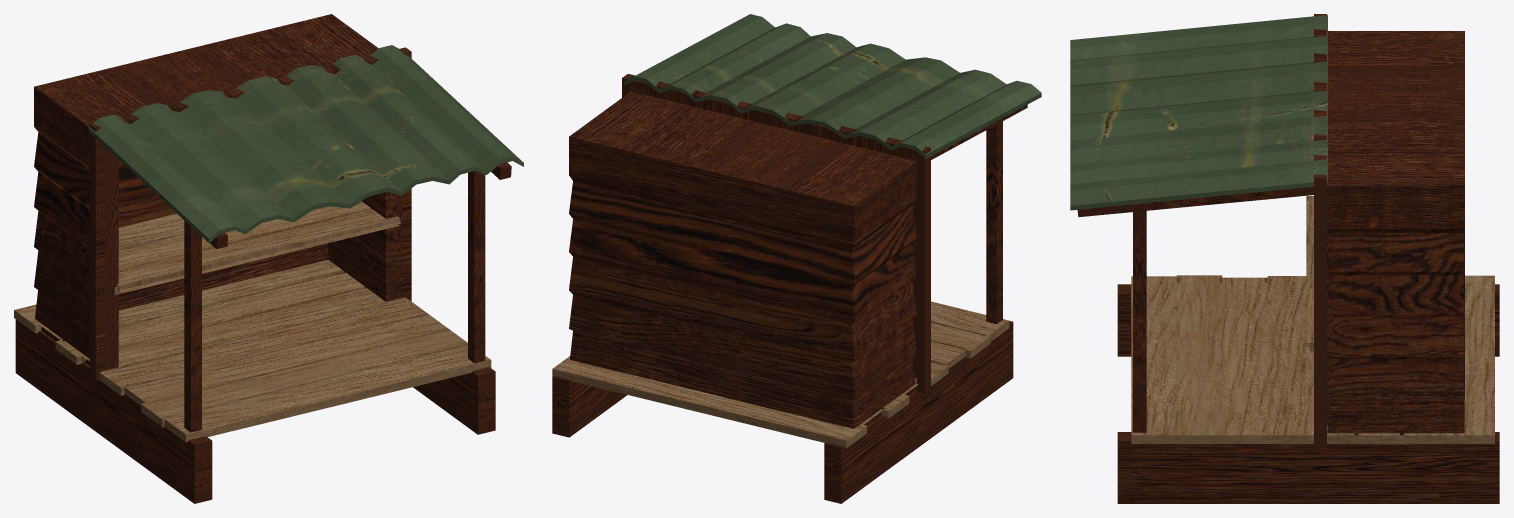
File: SM_Bld_ProduceStand_01.fbx
3 views of the same model, side by side, from view 1: azimuth 30°, elevation 25°; view 2: azimuth 150°, elevation 25°; view 3: azimuth 270°, elevation 25° (orthographic). The views are drawn at different scales.
Parts seen in each view (by area): view 1: Plane, Cube.003, Cube.002, Cube, Cube.004, Cube.005, Cube.006, Cube.001; view 2: Cube.003, Plane, Cube.002, Cube, Cube.005, Cube.001; view 3: Cube.003, Plane, Cube.002, Cube.001, Cube.006, Cube.009, Cube, Cube.004.
Boxes of the visible parts, bbox=[...] form: Plane: bbox=[88, 45, 523, 243]; Cube.003: bbox=[34, 14, 411, 380]; Cube.002: bbox=[14, 259, 491, 442]; Cube: bbox=[15, 319, 212, 503]; Cube.004: bbox=[114, 201, 401, 294]; Cube.005: bbox=[184, 221, 201, 432]; Cube.006: bbox=[468, 171, 485, 363]; Cube.001: bbox=[413, 367, 495, 434]; Cube.003: bbox=[569, 74, 930, 428]; Plane: bbox=[623, 14, 1041, 158]; Cube.002: bbox=[552, 301, 1009, 448]; Cube: bbox=[824, 321, 1013, 503]; Cube.005: bbox=[986, 126, 1002, 323]; Cube.001: bbox=[552, 375, 626, 437]; Cube.003: bbox=[1314, 14, 1464, 447]; Plane: bbox=[1070, 15, 1327, 210]; Cube.002: bbox=[1131, 275, 1494, 443]; Cube.001: bbox=[1117, 432, 1499, 503]; Cube.006: bbox=[1133, 204, 1146, 432]; Cube.009: bbox=[1077, 178, 1328, 217]; Cube: bbox=[1117, 284, 1499, 356]; Cube.004: bbox=[1306, 196, 1313, 351].
Bounding box in the file's own units: 299 × 284 × 329.
